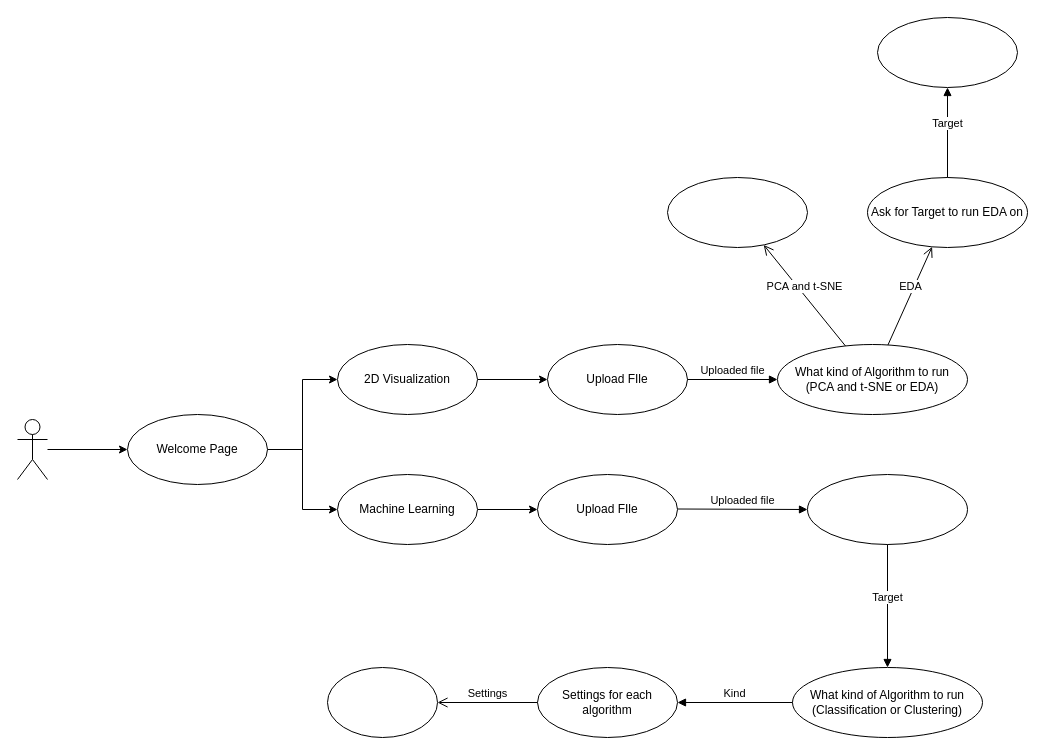
This 1045x755 diagram has some shape labels left out. Here are the shapes that lost their labels. From the top down, the centre of each, then its label:
At (947,52): "EDA Graphs".
At (737,212): "PCA and t-SNE graphs".
At (32,449): "User".
At (887,509): "Ask for Target to run the algorithms on".
At (382,702): "Graphs".
